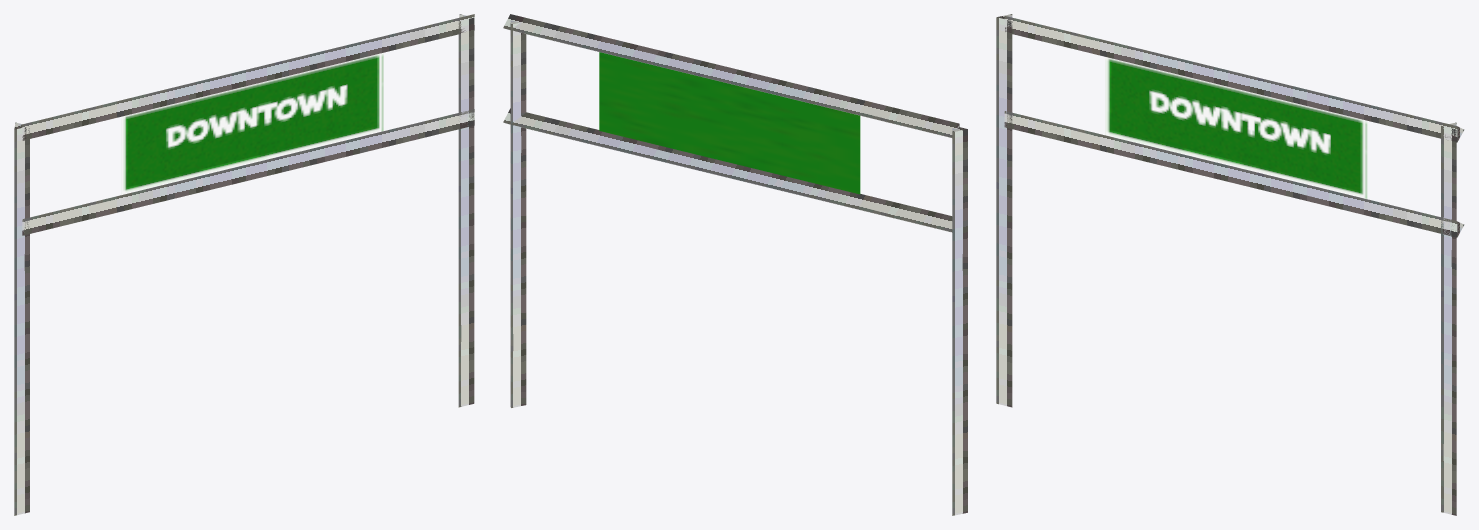
Rendered from SIGN01.glb.
3 views of the same model, side by side, from view 1: azimuth 30°, elevation 25°; view 2: azimuth 150°, elevation 25°; view 3: azimuth 330°, elevation 25° (orthographic).
Visible parts, largest first — view 1: SIGN01; view 2: SIGN01; view 3: SIGN01.
Part boxes in pixels (x1,y1,x2,y2): SIGN01: (14,14,474,515); SIGN01: (503,14,967,515); SIGN01: (996,14,1464,515).
Size of the model in its own units: 1373 by 1110 by 37.47.
2 materials, 2 textured.
